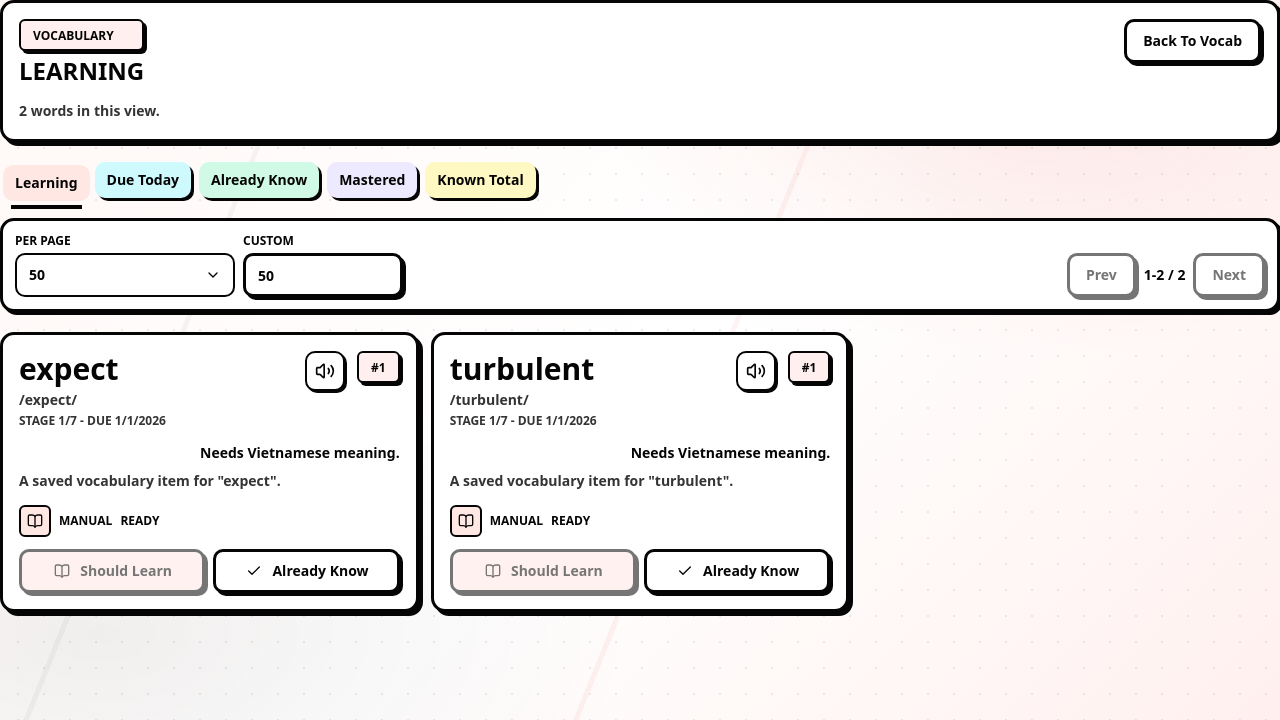
VocabularyWordList › moves a word out of the view at once and restores it on a 4xx
Click the button "Already Know" below "A saved vocabulary item for \"expect\"." at (306, 570), box x1=213 y1=548 x2=400 y2=592
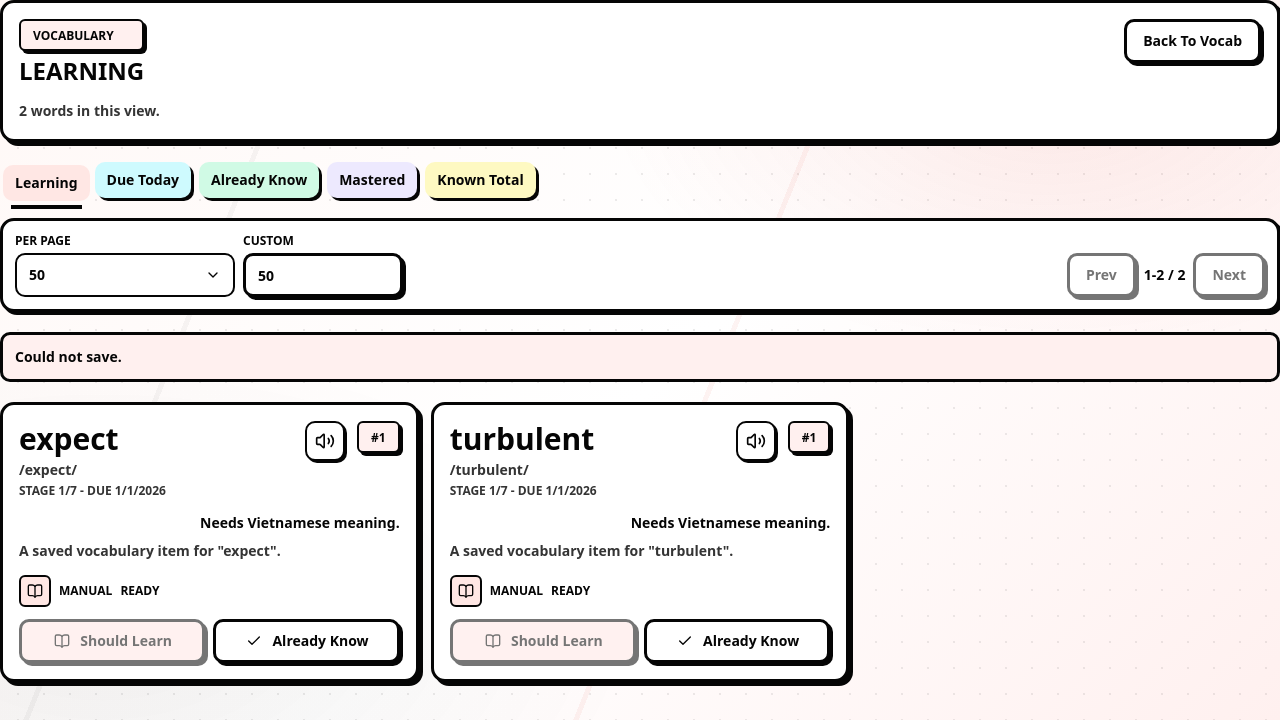
Expected: the heading "expect" is shown, x1=19 y1=421 x2=119 y2=457
Expected: the text "Could not save." is shown, x1=0 y1=332 x2=1279 y2=382
